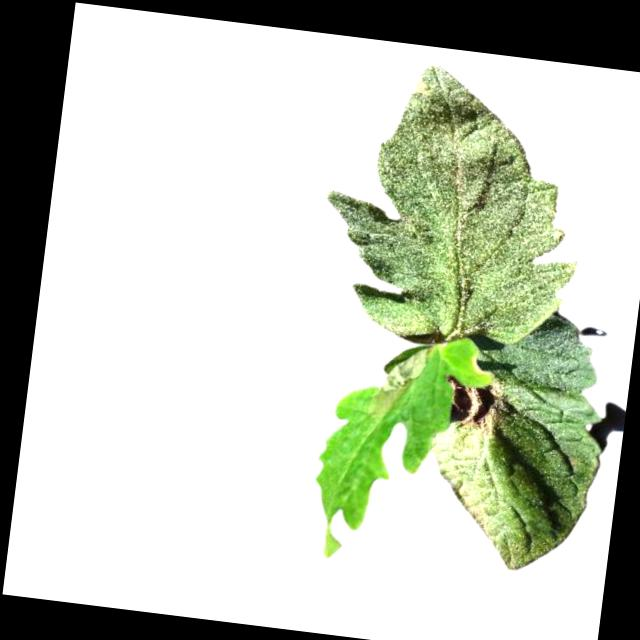Late_blight: (370, 340, 440, 423), (437, 373, 509, 437)
healthy: (312, 52, 601, 361)
